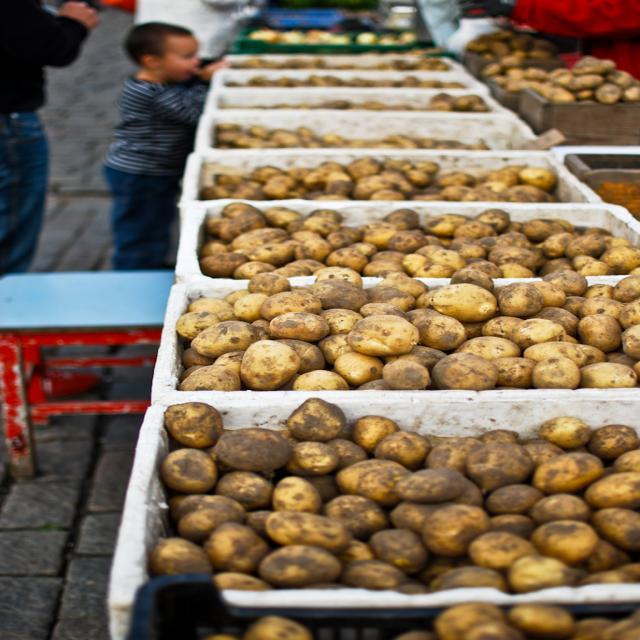Potato: (346, 313, 419, 357)
